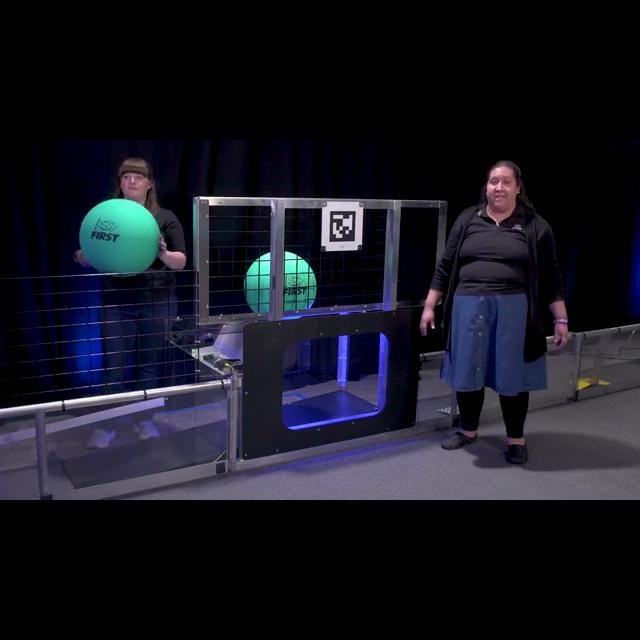ALGAE: (78, 197, 160, 275), (243, 250, 315, 320)
